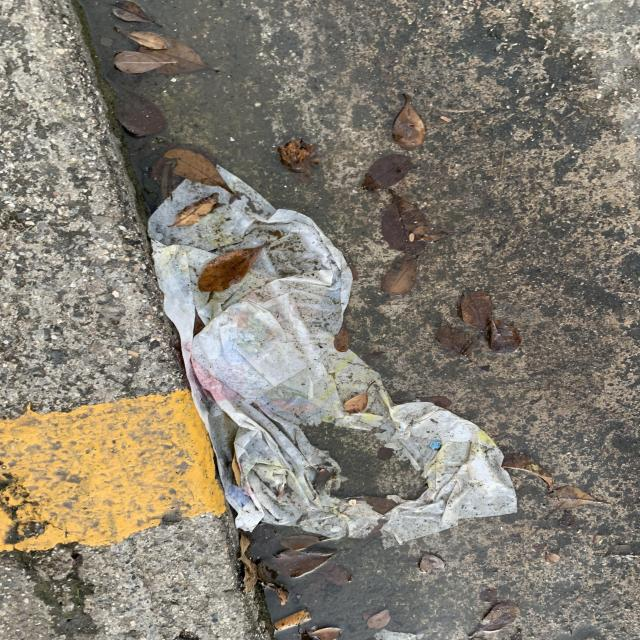litter: (147, 164, 517, 550), (274, 609, 312, 631)
